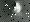person: (15, 2, 23, 17)
